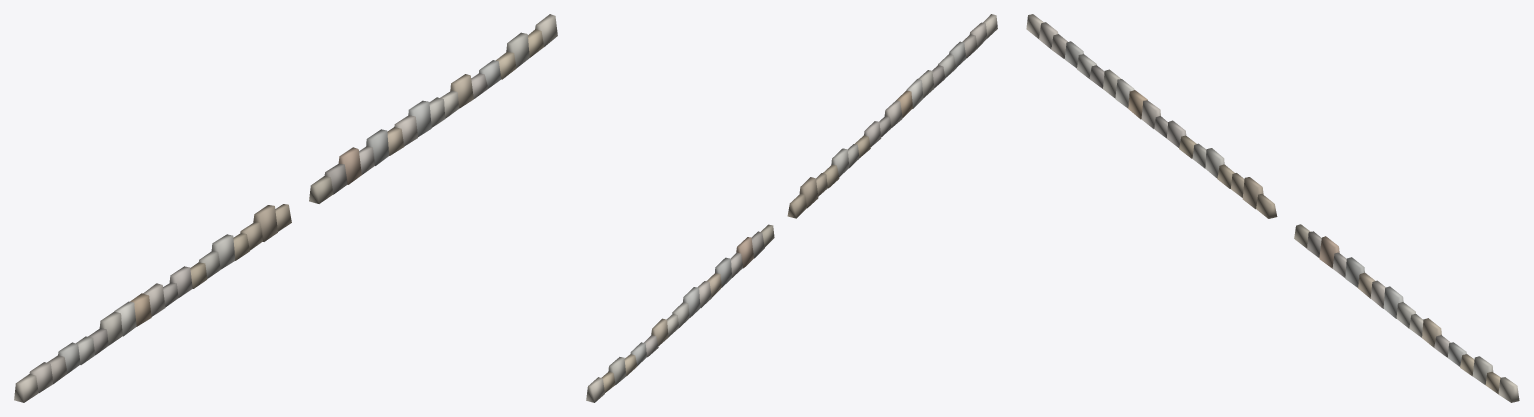
The model's file is farm_1_2_far.glb.
3 renders of one model, left to right at view 1: azimuth 30°, elevation 25°; view 2: azimuth 210°, elevation 25°; view 3: azimuth 270°, elevation 25°, orthographic. The views are drawn at different scales.
Parts seen in each view (by area): view 1: geometry_0; view 2: geometry_0; view 3: geometry_0.
Part boxes in pixels (x1=…): geometry_0: x1=14, y1=14, x2=557, y2=402; geometry_0: x1=586, y1=14, x2=997, y2=402; geometry_0: x1=1026, y1=14, x2=1519, y2=402.
Size of the model in its own units: 50.59 by 4.68 by 32.38.
